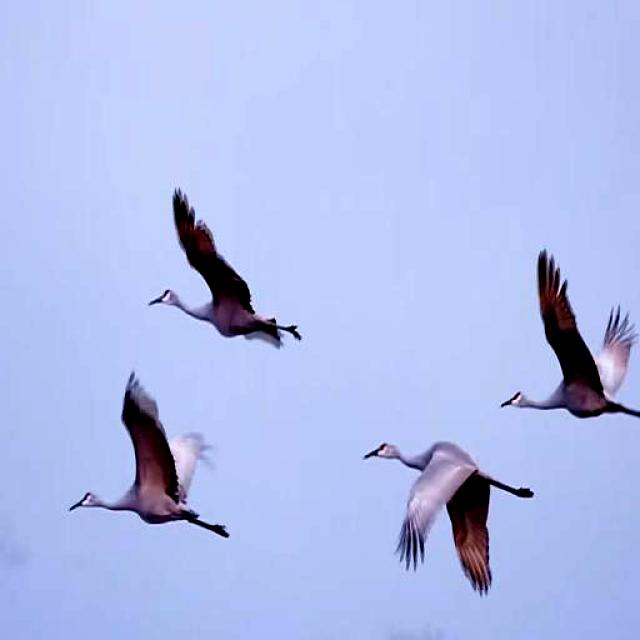airplane: (358, 436, 539, 609), (64, 365, 232, 544), (142, 179, 304, 359), (499, 238, 640, 431)
